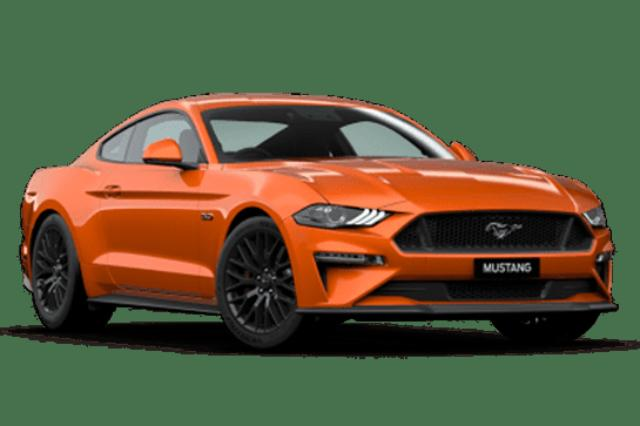ford-mustang: (20, 92, 618, 352)
